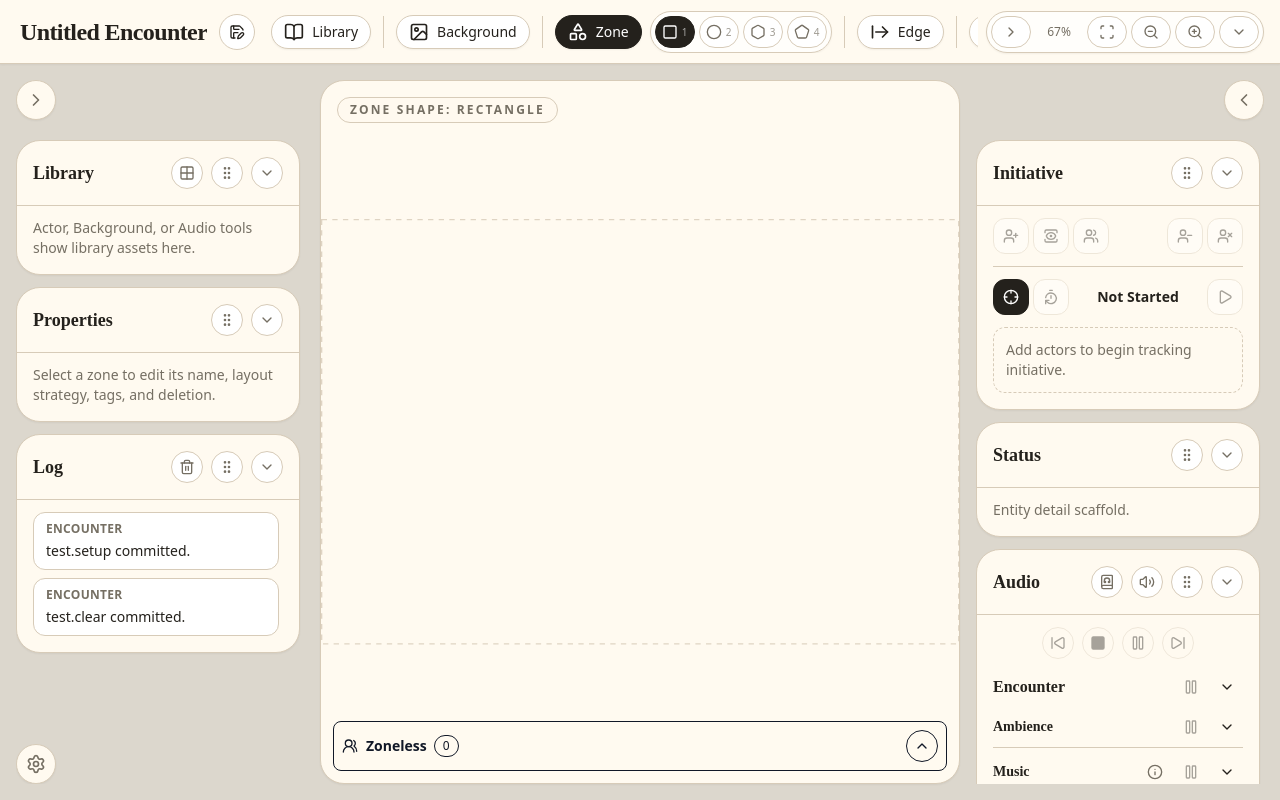
Scenario: missing audio sources › warns when a source is used only by a Library link
The width and height of the screenshot is (1280, 800).
Click the button "Library". click: click(321, 32)
box: [271,14,371,48]
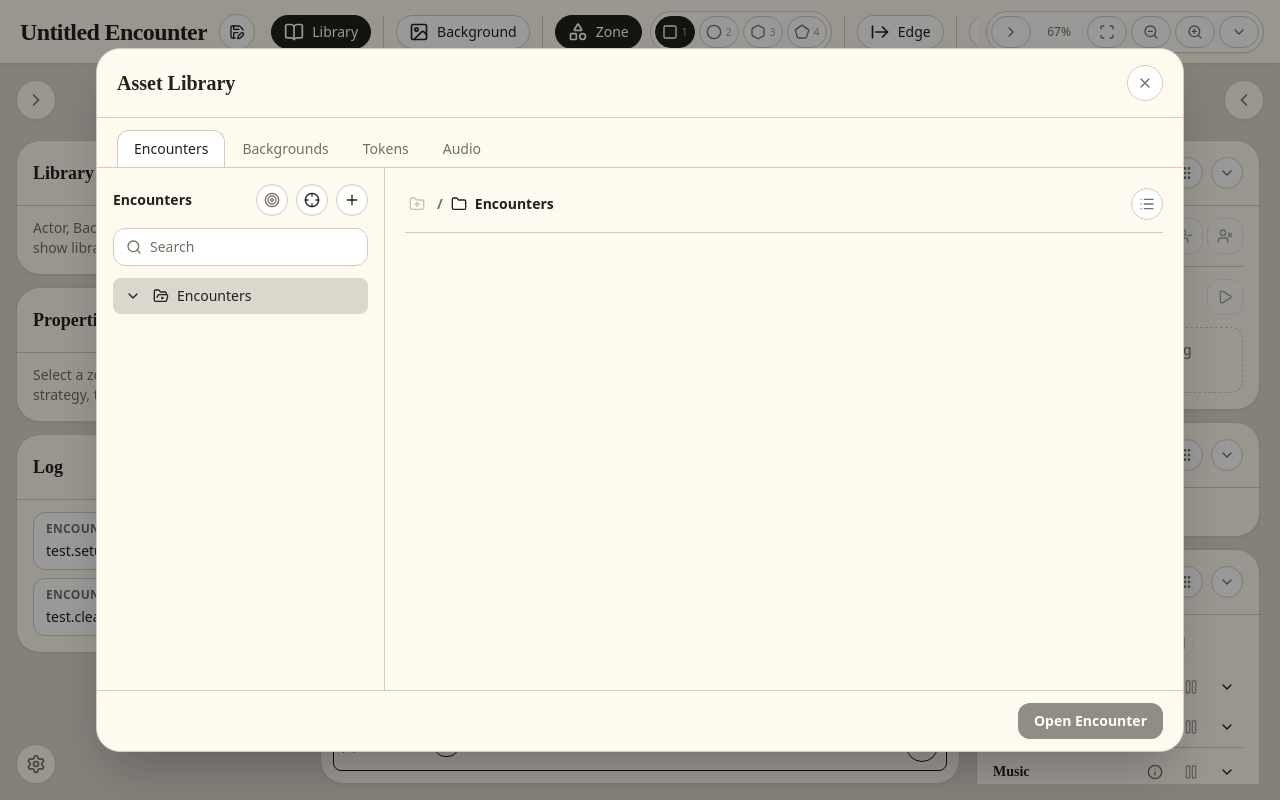
Click the tab "Audio". click: click(462, 148)
box: [426,130,498,167]
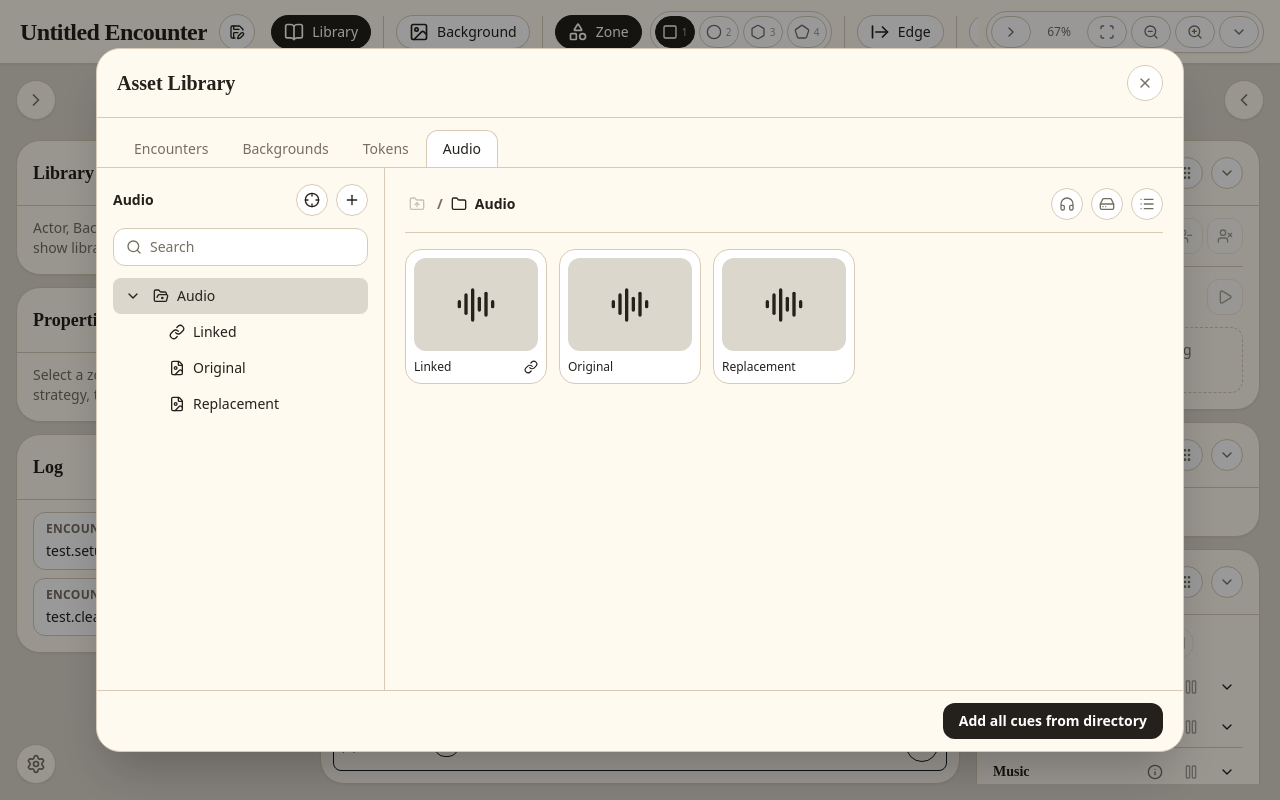
Right-click the button "Original" at (630, 316), box [559,249,701,384]
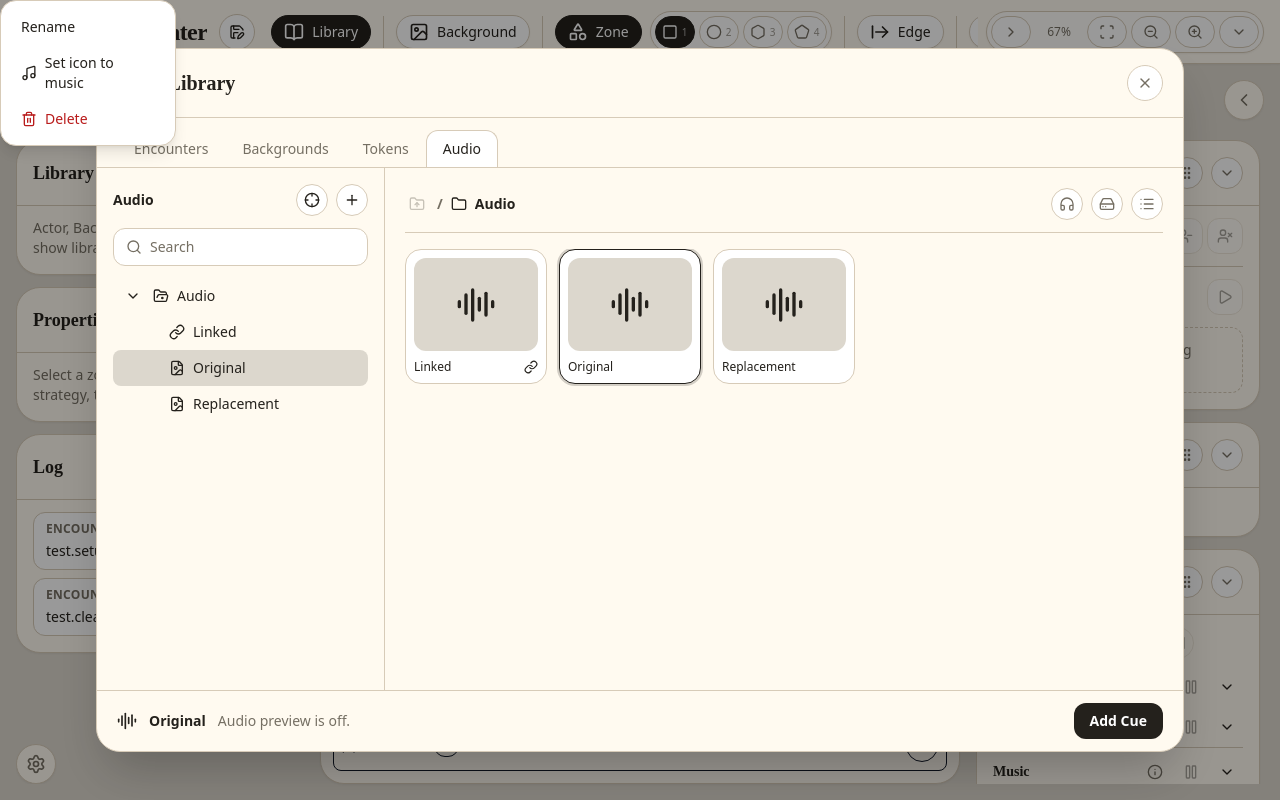
Click the menu item "Delete". click: click(88, 119)
box: [9,101,167,137]
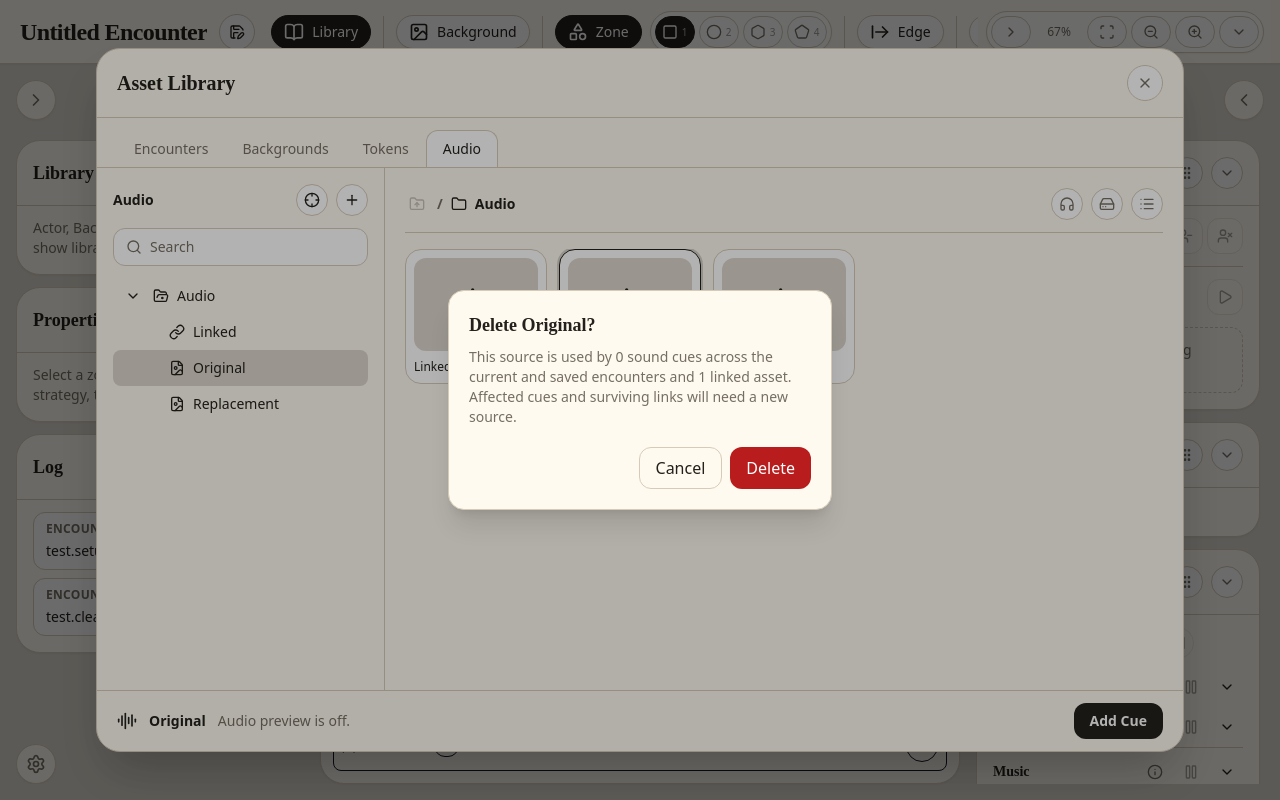
Result: the text "0 sound cues across the current and saved encounters and 1 linked asset" is shown at [469,347,811,427]
